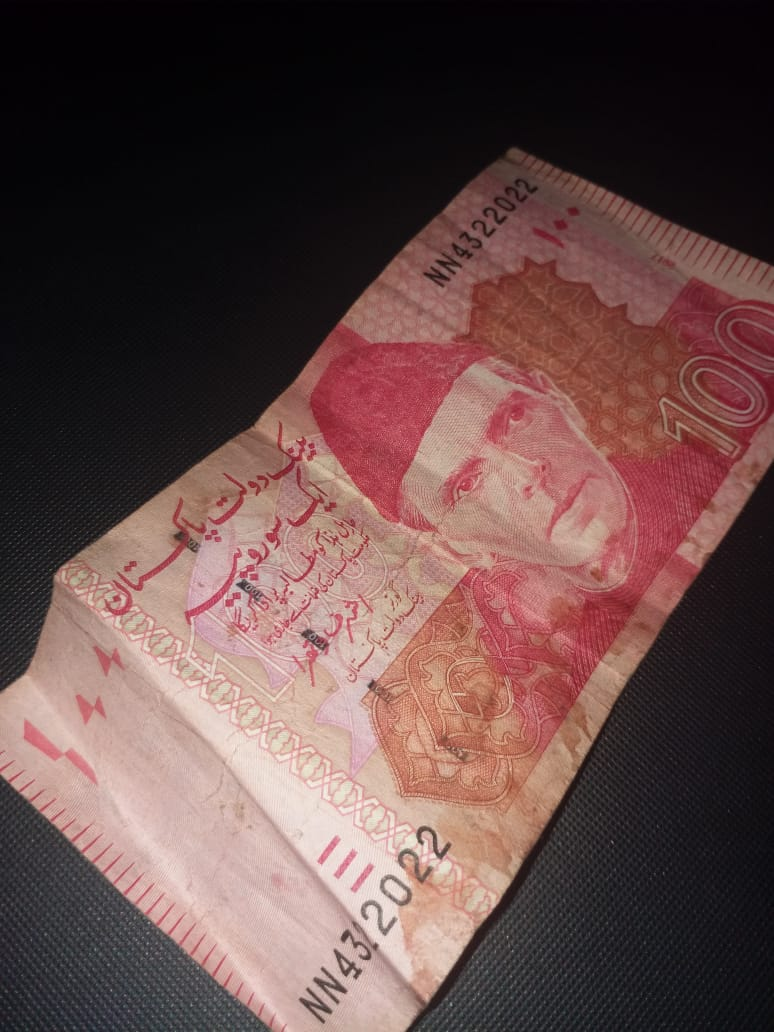100 rupee: (3, 132, 758, 1019)
